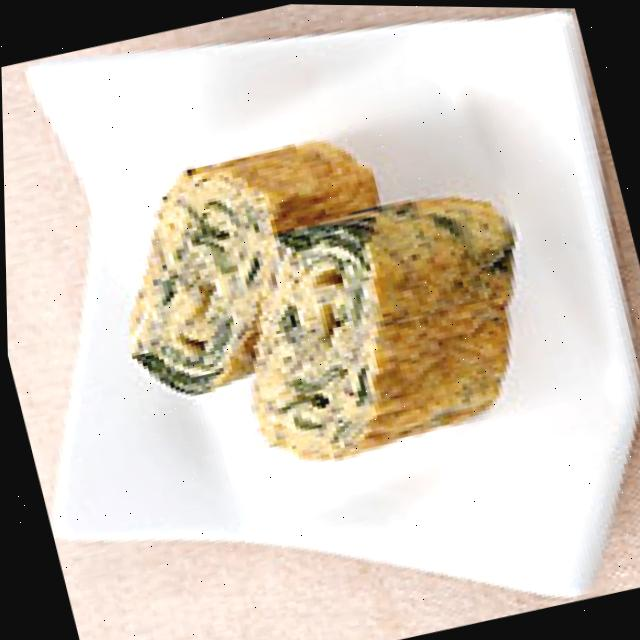鸡蛋料理: (53, 80, 577, 522)
